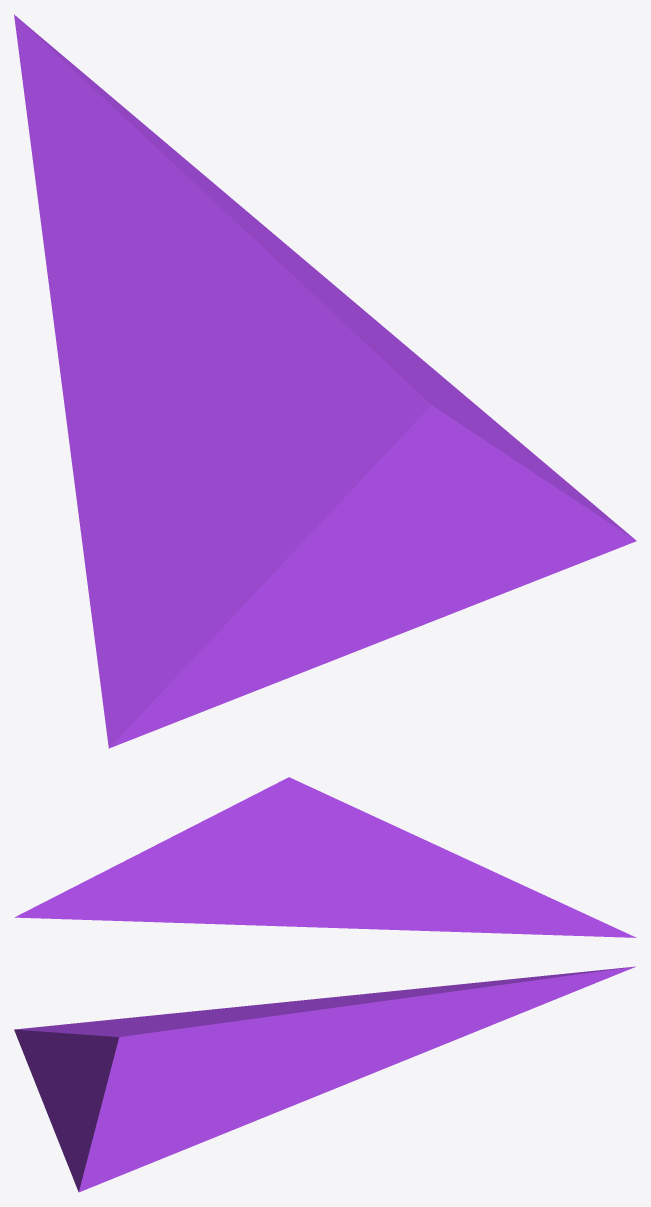
Rendered from Window_139_0_chunks.fbx.
3 views of the same model, one above another, from view 1: azimuth 30°, elevation 25°; view 2: azimuth 150°, elevation 25°; view 3: azimuth 270°, elevation 25° (orthographic). The views are drawn at different scales.
Visible parts, largest first — view 1: Window_139_0_0; view 2: Window_139_0_0; view 3: Window_139_0_0.
Boxes of the visible parts, bbox=[...] form: Window_139_0_0: bbox=[14, 14, 636, 748]; Window_139_0_0: bbox=[14, 777, 636, 937]; Window_139_0_0: bbox=[14, 966, 635, 1192].
Bounding box in the file's own units: 221 × 105 × 320.
